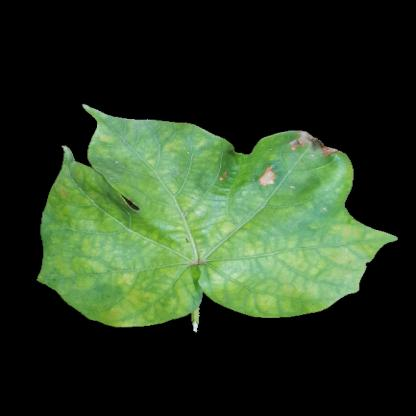curl_stage1: (61, 200, 252, 299), (259, 222, 363, 293), (100, 137, 214, 199), (78, 241, 148, 298), (302, 153, 351, 220), (251, 181, 310, 222), (254, 287, 324, 319), (113, 292, 176, 327)
